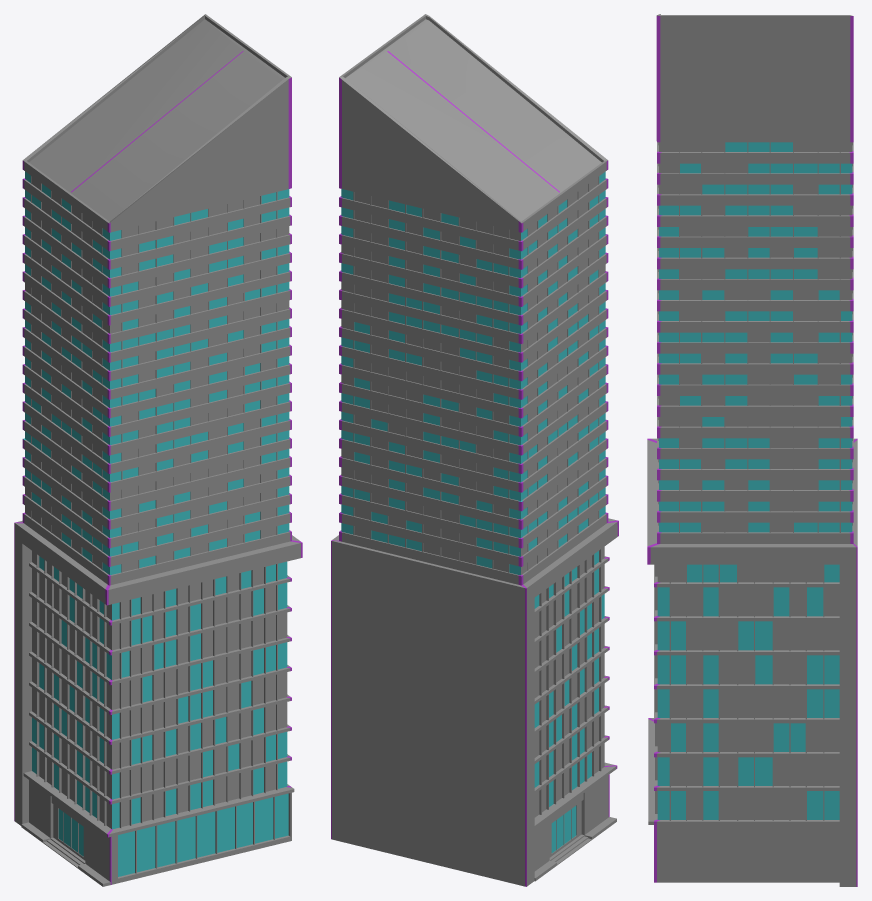
File: BuildingL_01_var1.fbx
3 views of the same model, side by side, from view 1: azimuth 30°, elevation 25°; view 2: azimuth 150°, elevation 25°; view 3: azimuth 270°, elevation 25° (orthographic). The views are drawn at different scales.
Parts seen in each view (by area): view 1: BuildingL_01_var1; view 2: BuildingL_01_var1; view 3: BuildingL_01_var1.
Boxes of the visible parts, x1,y1,x2,y2 form: BuildingL_01_var1: (14, 14, 302, 886); BuildingL_01_var1: (331, 14, 618, 886); BuildingL_01_var1: (647, 14, 857, 886).
Size of the model in its own units: 0.484 by 1.79 by 0.3943.
